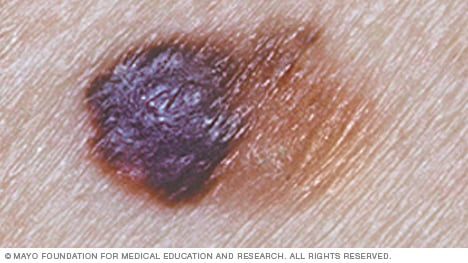Melanoma: (85, 21, 370, 214)
